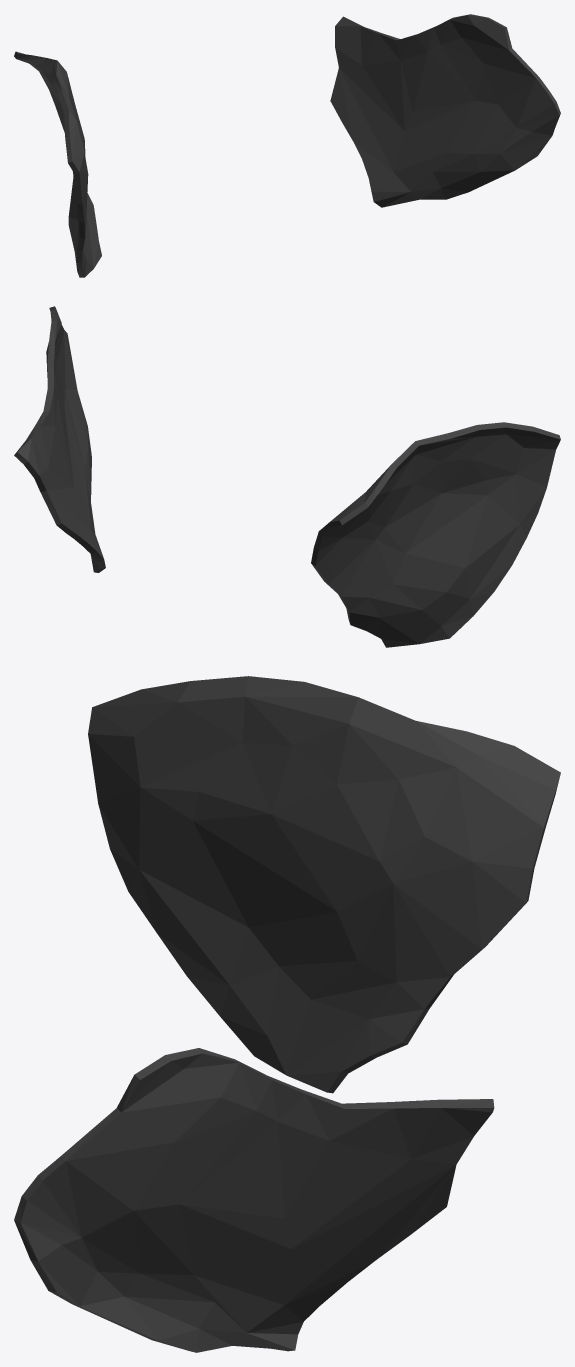
Rendered from l1_cranial_articular_surface.glb.
3 views of the same model, one above another, from view 1: azimuth 30°, elevation 25°; view 2: azimuth 150°, elevation 25°; view 3: azimuth 270°, elevation 25° (orthographic). The views are drawn at different scales.
Visible parts, largest first — view 1: l1_cranial_articular_surface; view 2: l1_cranial_articular_surface; view 3: l1_cranial_articular_surface.
Boxes of the visible parts, <box> form: l1_cranial_articular_surface: <box>14,14,560,277</box>; l1_cranial_articular_surface: <box>14,306,560,647</box>; l1_cranial_articular_surface: <box>14,676,560,1352</box>.
Bounding box in the file's own units: 22.03 × 9.29 × 12.05.
1 material, 1 textured.
